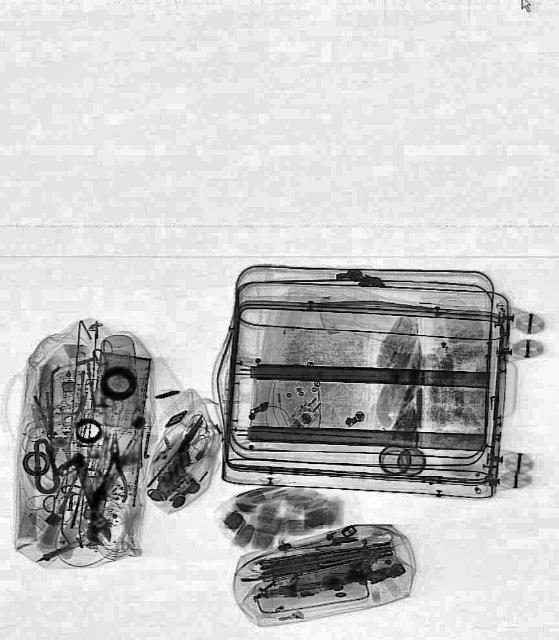Pliers: (98, 433, 128, 501)
Wrench: (60, 448, 116, 550)
